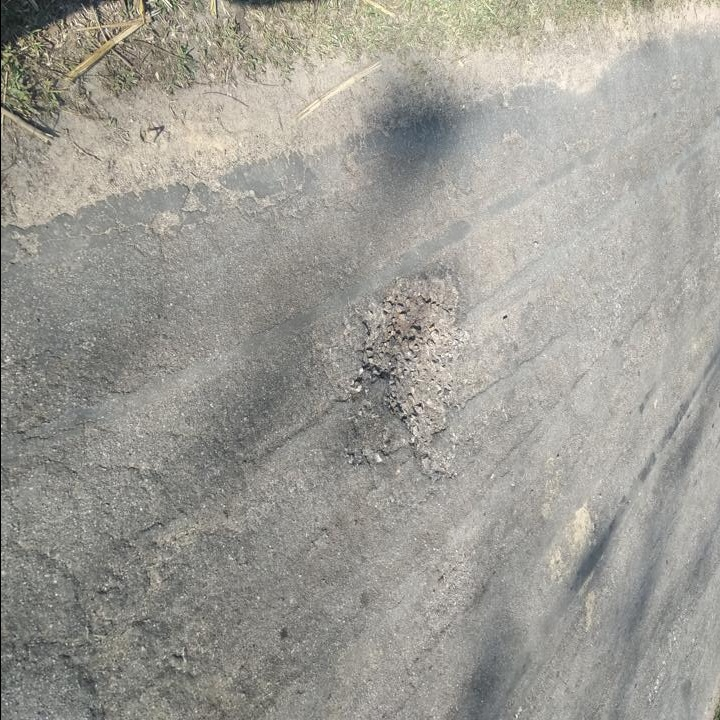pothole: (355, 261, 470, 477)
